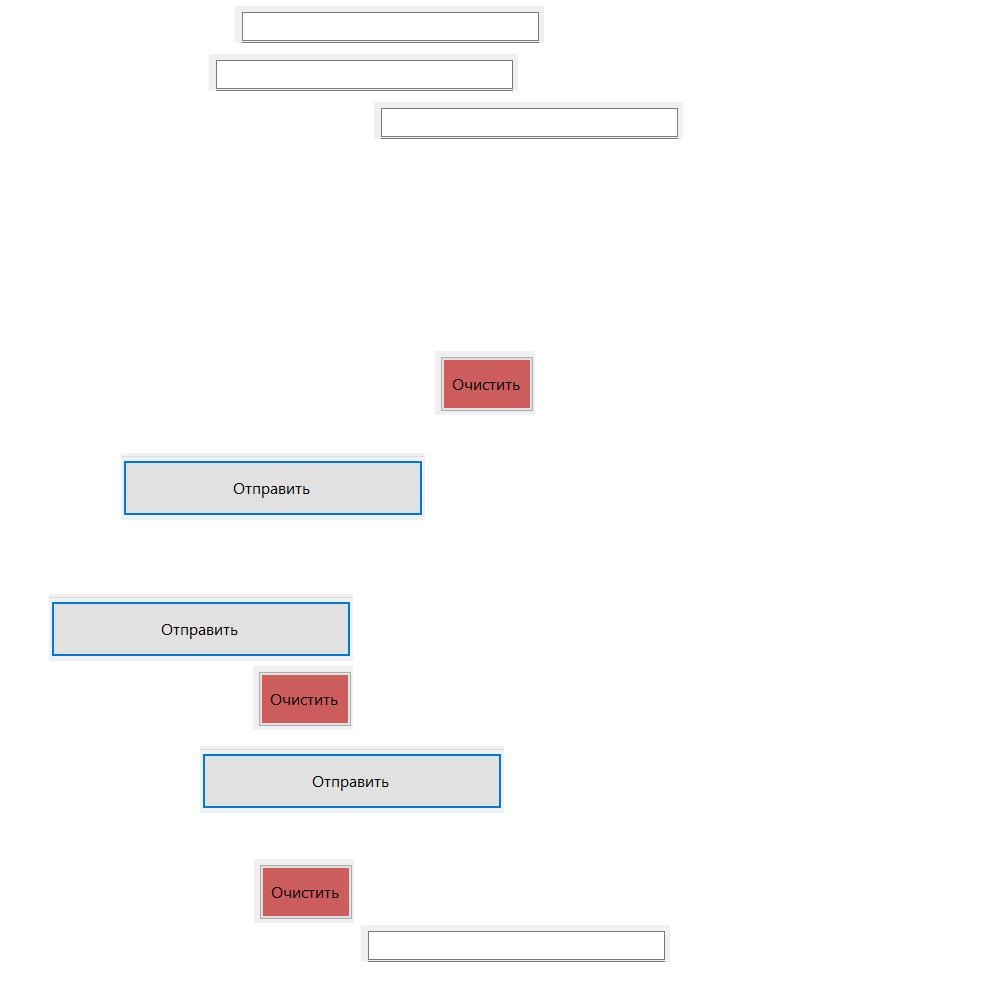Button: (200, 746, 504, 813), (121, 453, 425, 520), (49, 594, 353, 661), (254, 859, 354, 923), (435, 351, 535, 415), (253, 666, 353, 730)
EditText-: (361, 925, 670, 962), (209, 54, 518, 91), (235, 6, 544, 43), (374, 102, 683, 139)
